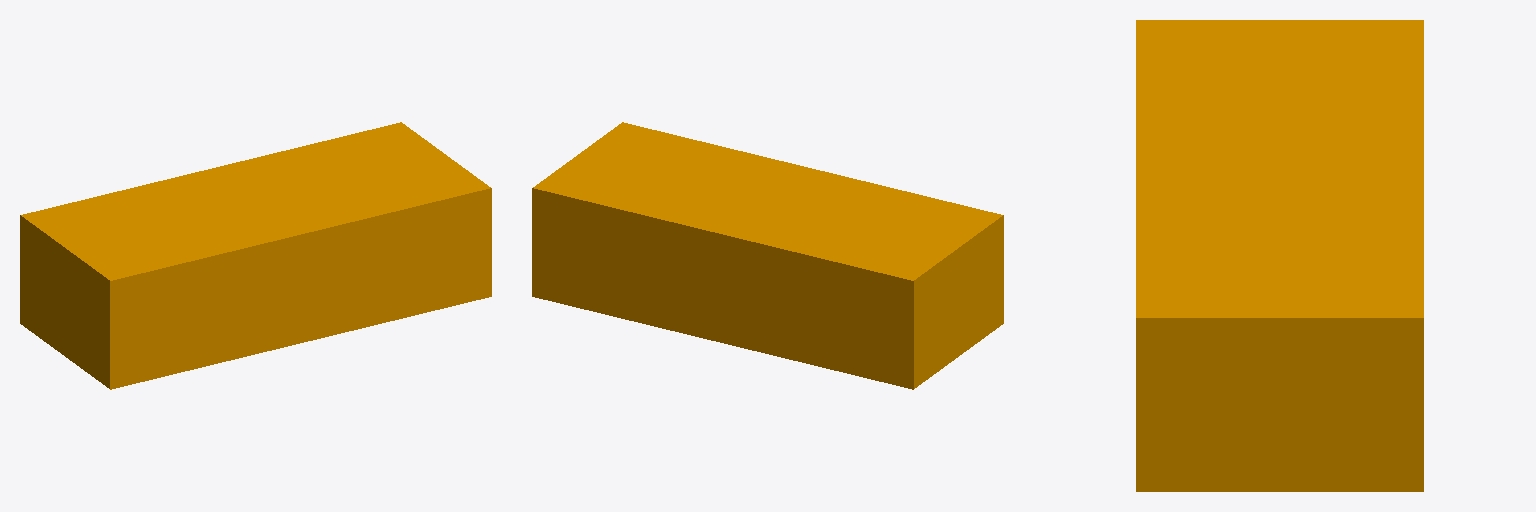
URDF robot description (2x2):
<?xml version='1.0' encoding='UTF-8'?>
<robot name="2x2">
  <link name="base_link">
    <inertial>
      <origin xyz="0.0 0.0 0.0" rpy="0.0 0.0 0.0"/>
      <mass value="0.01"/>
      <inertia ixx="0.1" ixy="0.0" ixz="0.0" iyy="0.1" iyz="0.0" izz="0.1"/>
    </inertial>
    <visual>
      <geometry>
        <box size="0.044 0.018 0.012"/>
      </geometry>
      <material name=""/>
      <origin xyz="0.0 0.0 0.0" rpy="0.0 0.0 0.0"/>
    </visual>
    <collision>
      <geometry>
        <box size="0.044 0.018 0.012"/>
      </geometry>
      <origin xyz="0.0 0.0 0.0" rpy="0.0 0.0 0.0"/>
    </collision>
  </link>
  <material name="">
    <color rgba="0.45058768 0.59764514 0.98202664 1.        "/>
  </material>
  <contact>
    <lateral_friction value="1.0"/>
    <rolling_friction value="0.0"/>
    <contact_cfm value="0.0"/>
    <contact_erp value="1.0"/>
  </contact>
</robot>

--- What the picture shows (computed from the rendered views, not written in the file) ---
3 views of the same robot in one strip: view 1: azimuth 30°, elevation 25°; view 2: azimuth 150°, elevation 25°; view 3: azimuth 270°, elevation 25° (orthographic).
Robot: 2x2 — 1 links, 0 joints (none); root link base_link; default pose: all joints at 0.
Links seen in each view (by area): view 1: base_link; view 2: base_link; view 3: base_link.
Link boxes in pixels (left/top/right/bottom): base_link: left=20, top=122, right=491, bottom=389; base_link: left=532, top=122, right=1003, bottom=389; base_link: left=1136, top=20, right=1423, bottom=491.
Bounding box of the posed robot: 0.044 × 0.018 × 0.012 m (x, y, z).
Geometry: primitives only (box / cylinder / sphere), no mesh files.